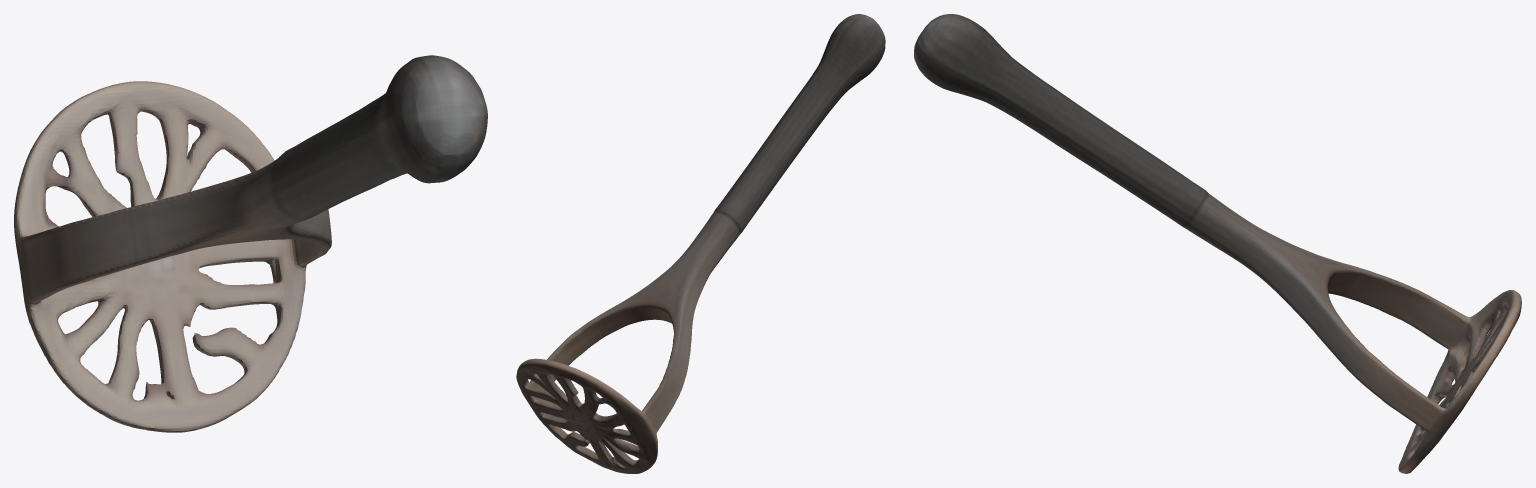
The model's file is frame_0084_source_000084_object.glb.
3 renders of one model, left to right at view 1: azimuth 30°, elevation 25°; view 2: azimuth 150°, elevation 25°; view 3: azimuth 270°, elevation 25°, orthographic. The views are drawn at different scales.
Visible parts, largest first — view 1: world; view 2: world; view 3: world.
Part boxes in pixels (x1,y1,x2,y2): world: [14, 55, 487, 432]; world: [516, 14, 885, 473]; world: [914, 14, 1521, 473].
Size of the model in its own units: 0.0842 by 0.176 by 0.2355.
